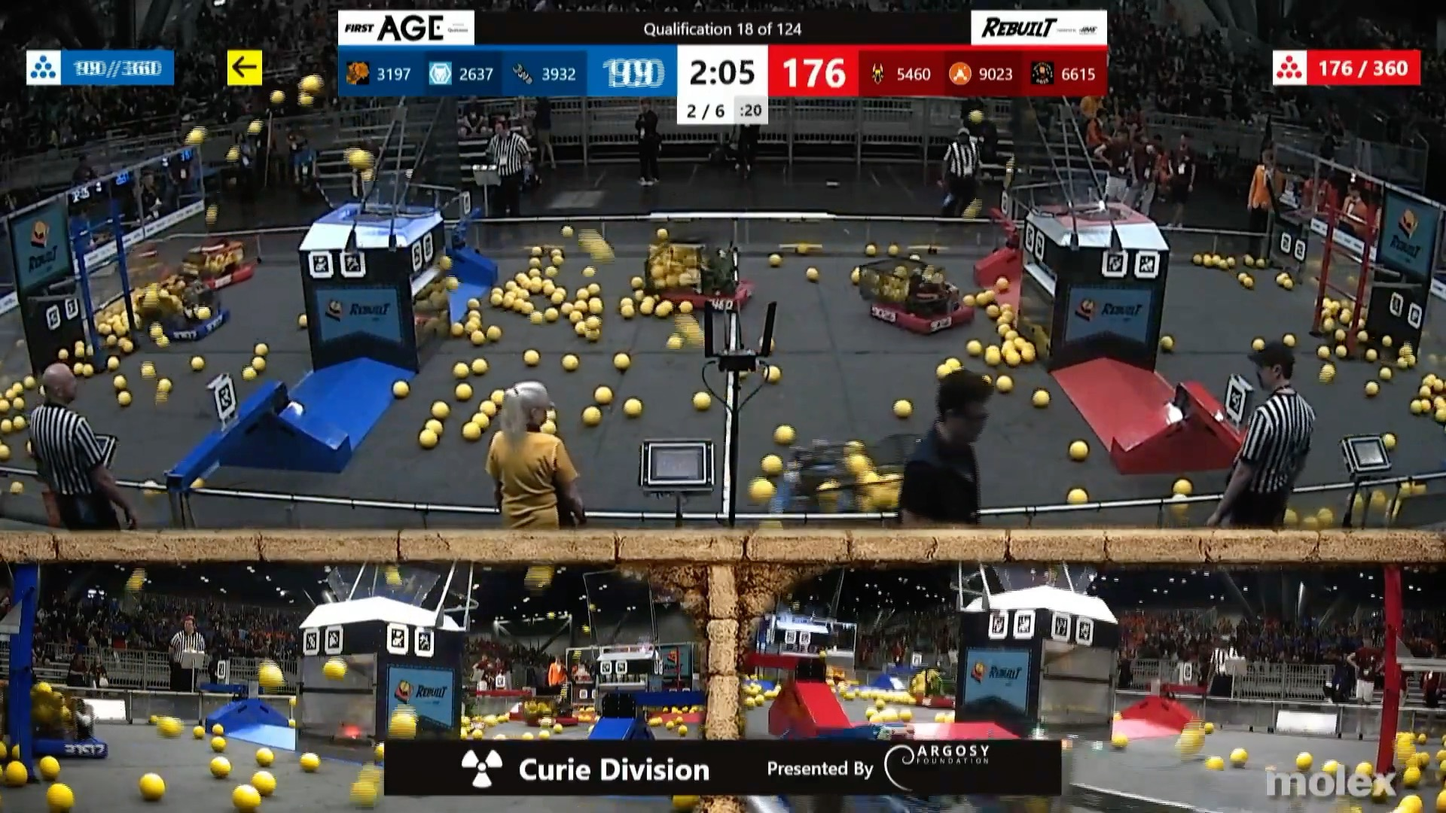bumpers: (862, 296, 980, 336), (136, 305, 243, 347), (17, 725, 113, 763), (673, 280, 759, 313), (178, 266, 262, 297)
